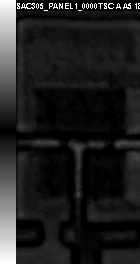led: (35, 88, 126, 197)
